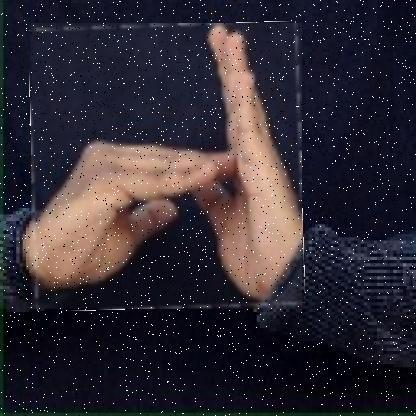Z: (30, 23, 302, 310)
